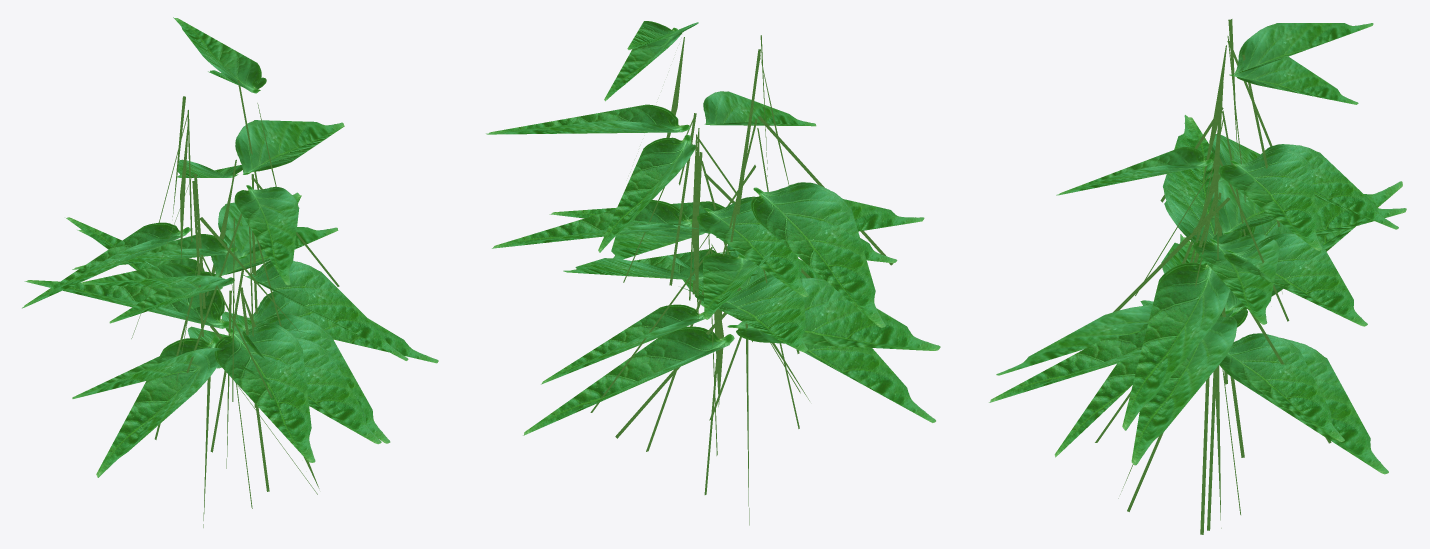
The model's file is Leafy Bush B.glb.
The picture shows the model from 3 angles, left to right: view 1: azimuth 30°, elevation 25°; view 2: azimuth 150°, elevation 25°; view 3: azimuth 270°, elevation 25°; orthographic projection. The views are drawn at different scales.
Parts seen in each view (by area): view 1: Leafy Bush B; view 2: Leafy Bush B; view 3: Leafy Bush B.
Boxes of the visible parts, x1=… form: Leafy Bush B: x1=22, y1=17, x2=438, y2=527; Leafy Bush B: x1=486, y1=21, x2=940, y2=525; Leafy Bush B: x1=989, y1=19, x2=1406, y2=534.
Size of the model in its own units: 0.6554 by 0.8 by 0.6026.
Materials: 1 (1 with a texture image).
